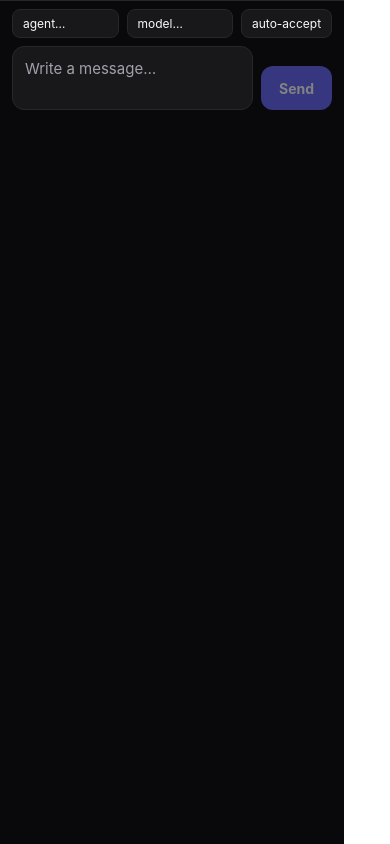
Test: Composer › reports a network failure to send
Type "hi" into the text box with placeholder "Write a message…" at (132, 78), box [12,46,253,110]
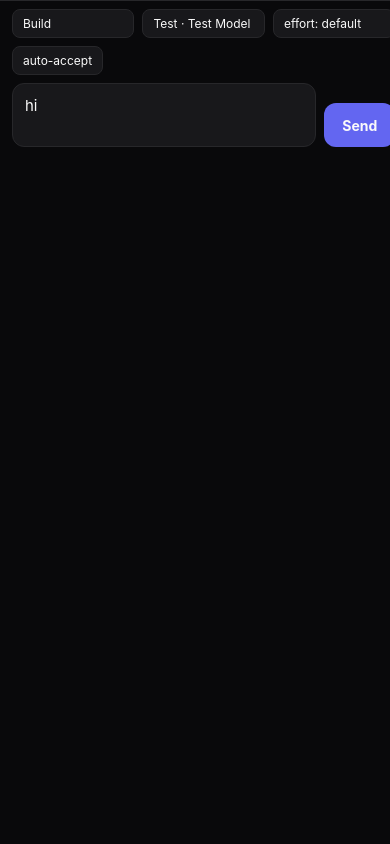
Click the text "Send" at (360, 125), box [342,116,377,134]
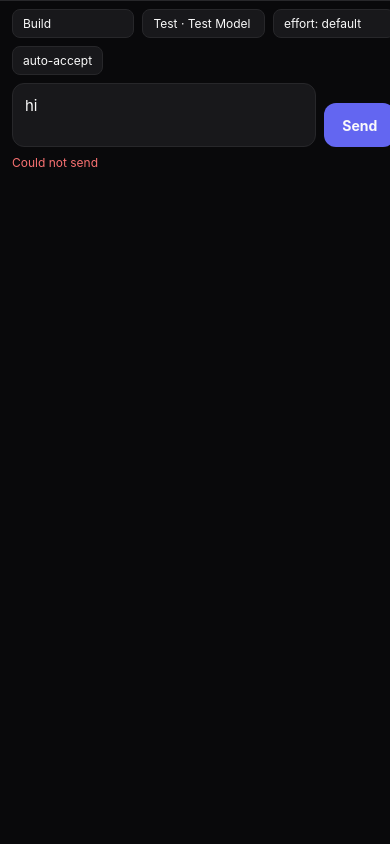
Check: the text "Could not send" is shown, box [12,155,98,170]
